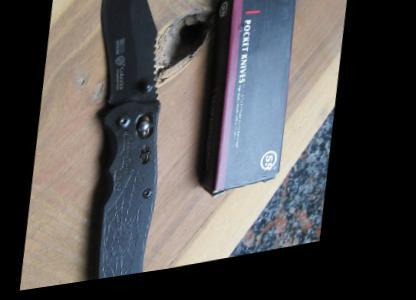knife: (60, 0, 198, 286)
